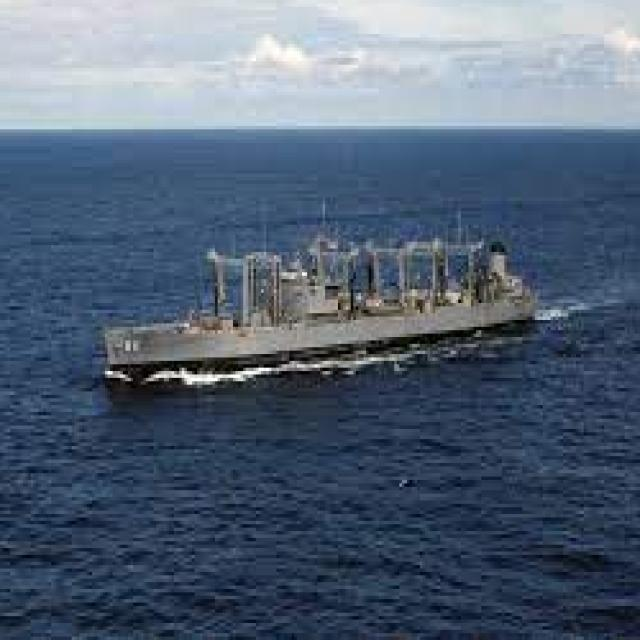navalvessels: (98, 204, 553, 392)
